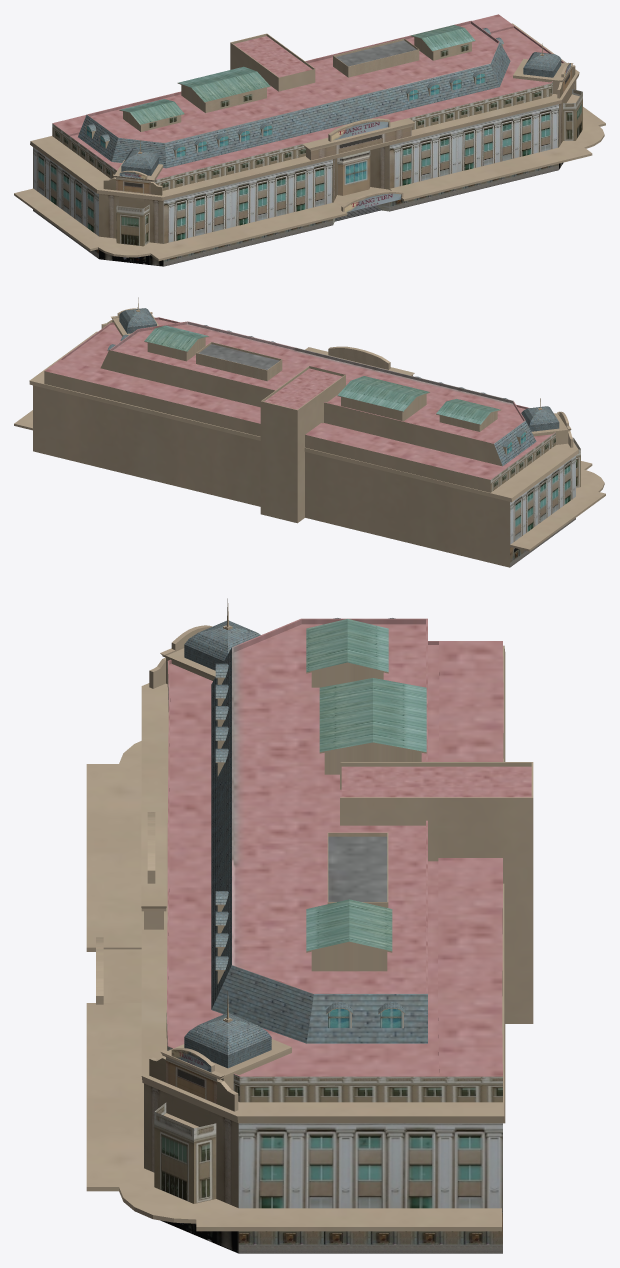
The picture shows the model from 3 angles, top to bottom: view 1: azimuth 30°, elevation 25°; view 2: azimuth 150°, elevation 25°; view 3: azimuth 270°, elevation 25°; orthographic projection. The views are drawn at different scales.
Visible parts, largest first — view 1: HN1254_CartierHaNoi_TrangTienPlaza; view 2: HN1254_CartierHaNoi_TrangTienPlaza; view 3: HN1254_CartierHaNoi_TrangTienPlaza.
Part boxes in pixels (box(x1,y1,x2,y2)): HN1254_CartierHaNoi_TrangTienPlaza: box(14, 14, 605, 266); HN1254_CartierHaNoi_TrangTienPlaza: box(14, 297, 605, 567); HN1254_CartierHaNoi_TrangTienPlaza: box(86, 598, 533, 1253).
Bounding box in the file's own units: 123 × 26.58 × 46.22.
Materials: 1 (1 with a texture image).
